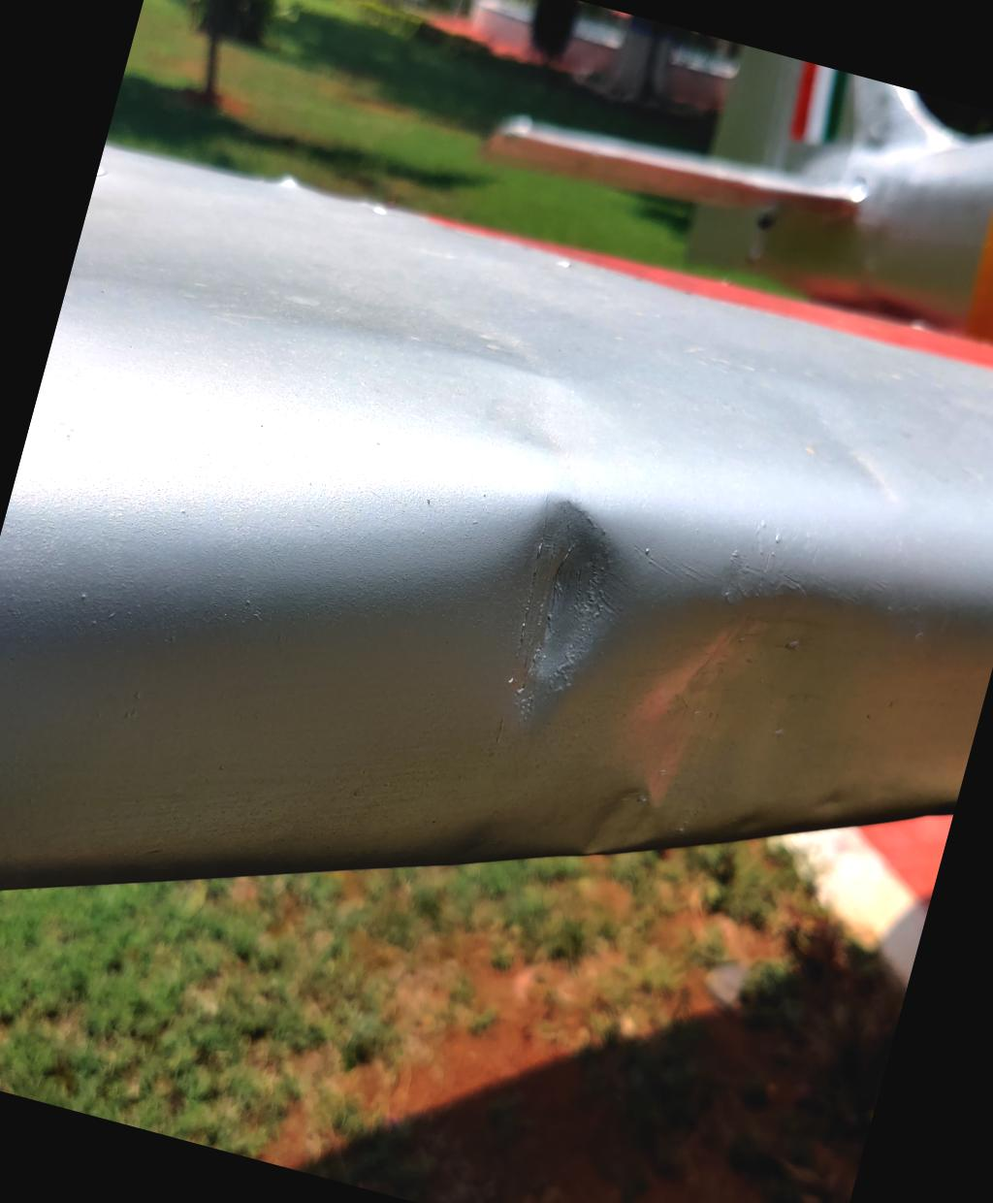dent: (551, 519, 864, 922), (439, 461, 687, 753)
